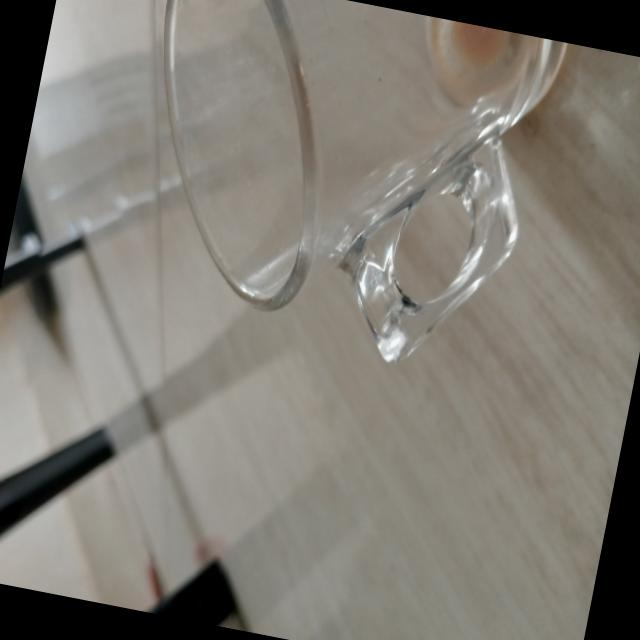glass-VX4N: (86, 0, 607, 397)
